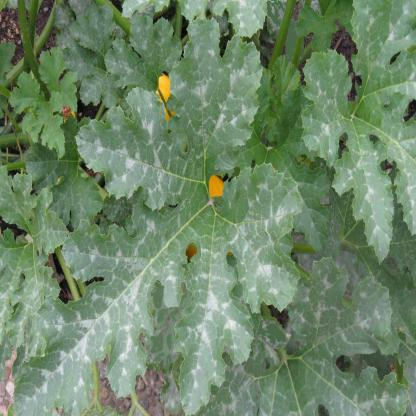squash powdery mildew leaf: (3, 181, 219, 416), (66, 97, 213, 218), (171, 14, 261, 172), (215, 155, 295, 309)
